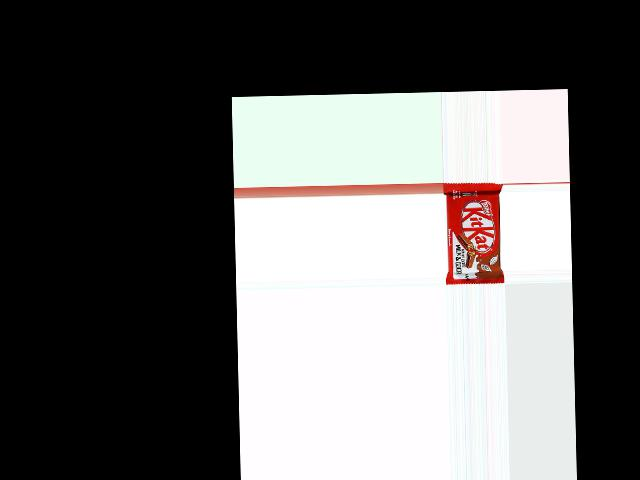chocolate: (443, 182, 504, 285)
